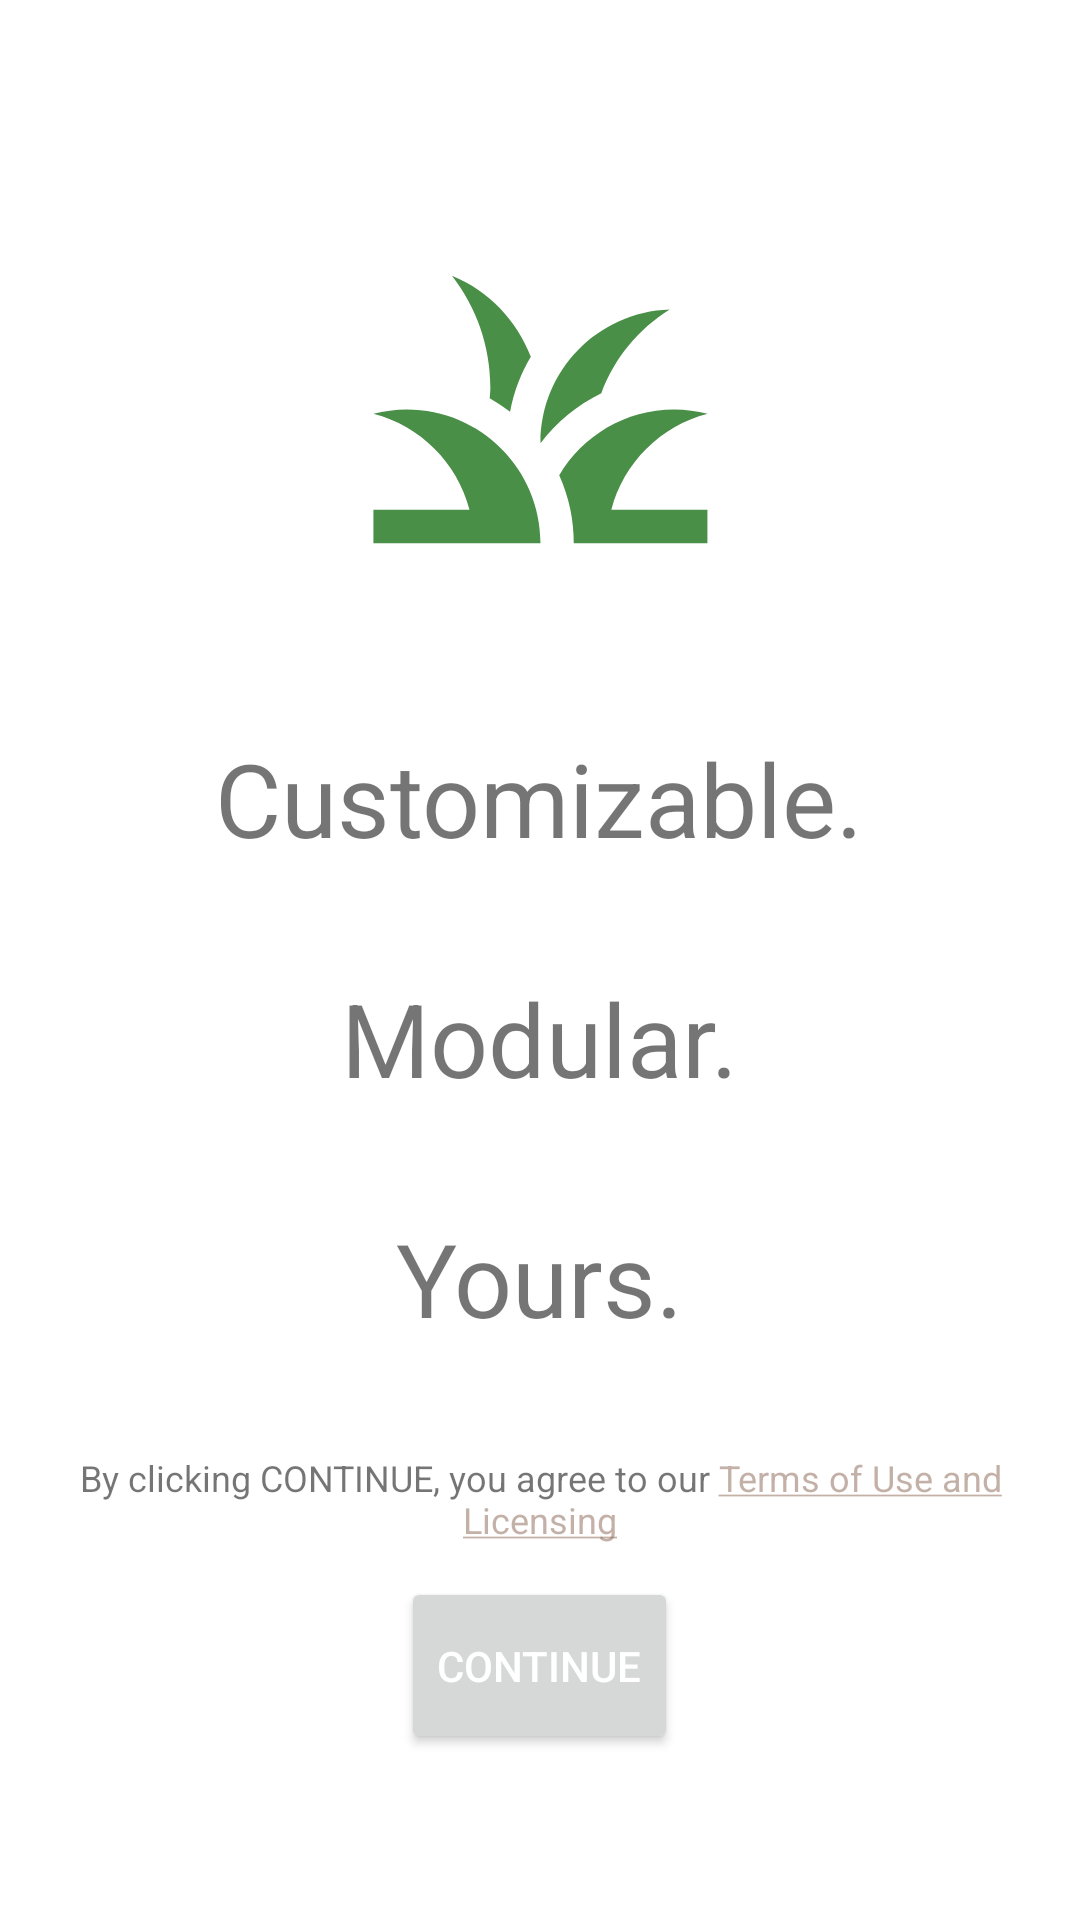

Where icons sit on this 1080px×1920px app screen, as (x1, y1, x2, y2):
grass: (373, 276, 708, 544)
